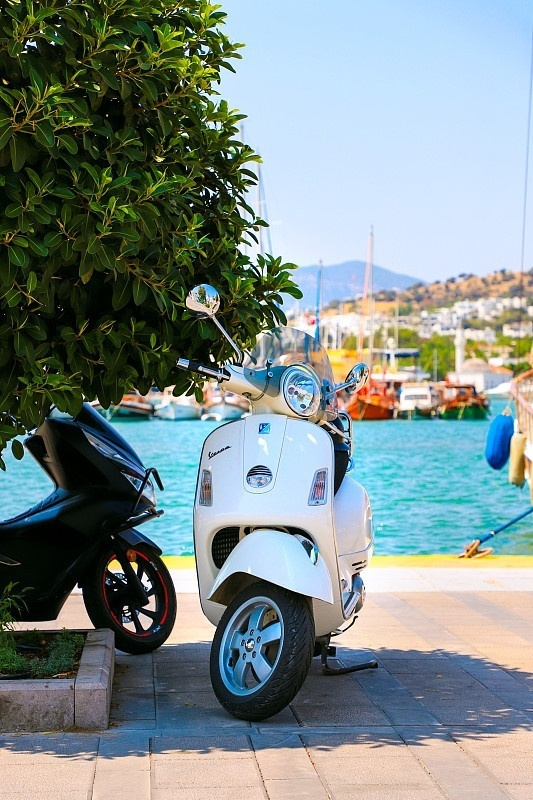non-vehicle: (194, 347, 374, 706), (0, 379, 185, 660)
